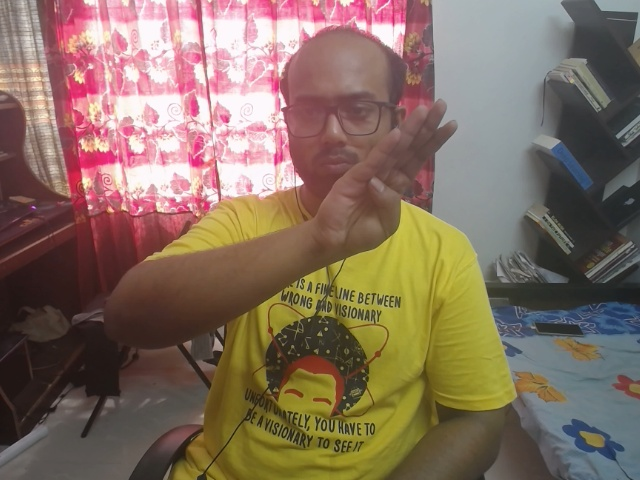counting: (332, 93, 494, 281)
